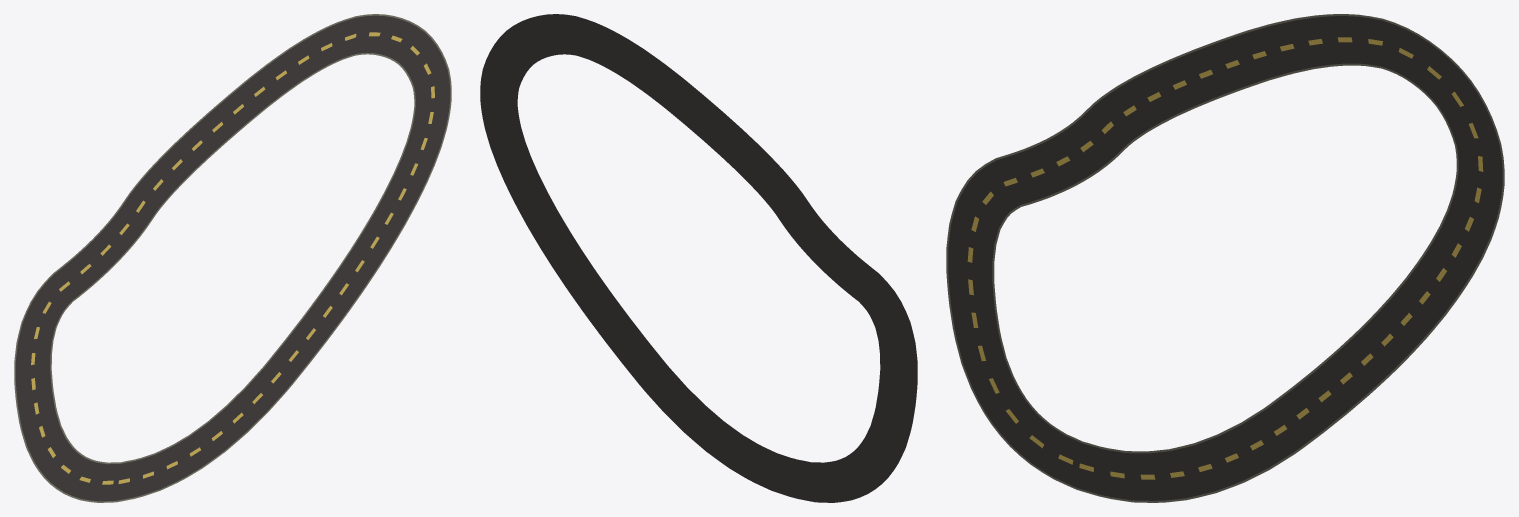
The model's file is track.obj.
3 views of the same model, side by side, from view 1: azimuth 30°, elevation 25°; view 2: azimuth 150°, elevation 25°; view 3: azimuth 330°, elevation 25° (orthographic). The views are drawn at different scales.
Size of the model in its own units: 11.76 by 11.01 by 0.002.
Materials: 3 (3 with a texture image).
